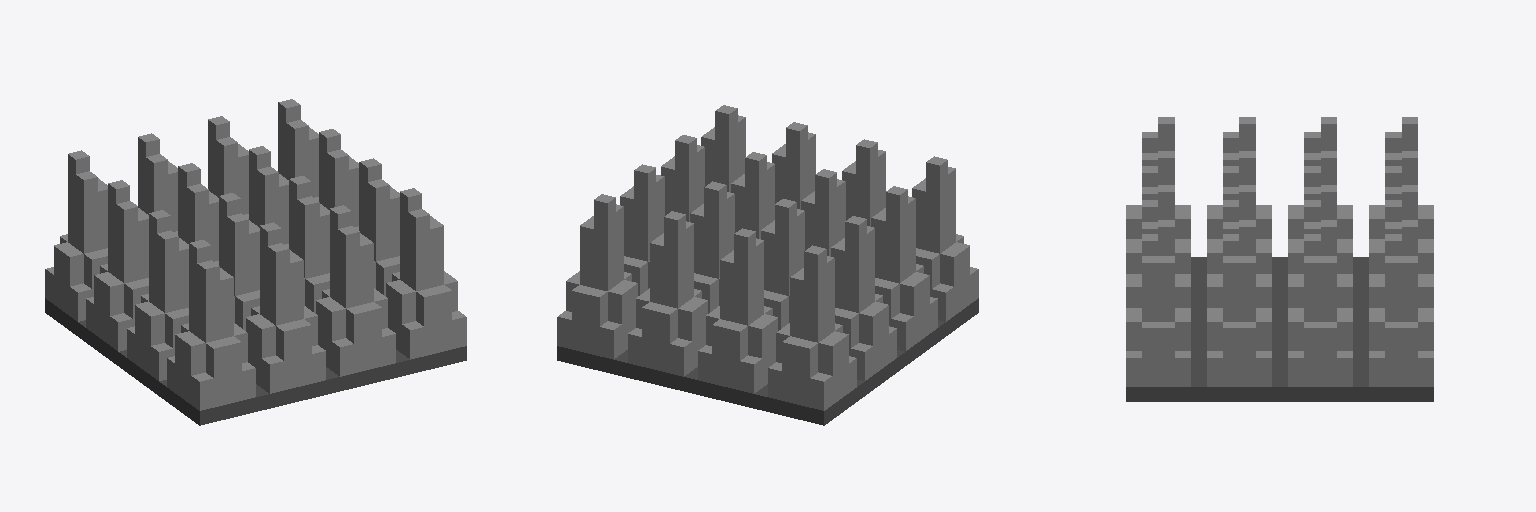
3 views of the same model, side by side, from view 1: azimuth 30°, elevation 25°; view 2: azimuth 150°, elevation 25°; view 3: azimuth 270°, elevation 25° (orthographic).
Visible parts, largest first — view 1: object 1; view 2: object 1; view 3: object 1.
Part boxes in pixels (bbox=[...]): object 1: bbox=[45, 99, 466, 425]; object 1: bbox=[557, 105, 978, 425]; object 1: bbox=[1126, 117, 1433, 401].
Bounding box in the file's own units: 1.9 × 1.1 × 1.9.
Materials: 1 (1 with a texture image).